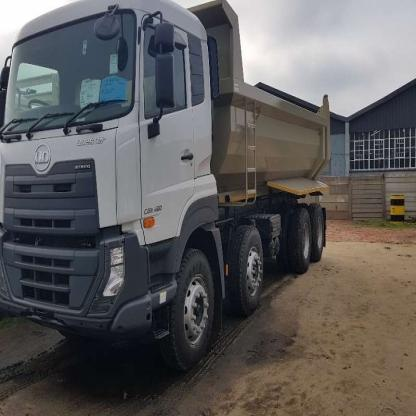dump_truck: (2, 4, 335, 376)
